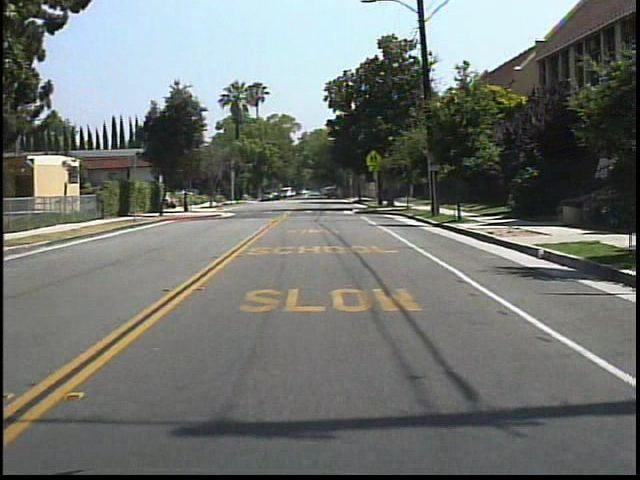person: (315, 186, 330, 204)
